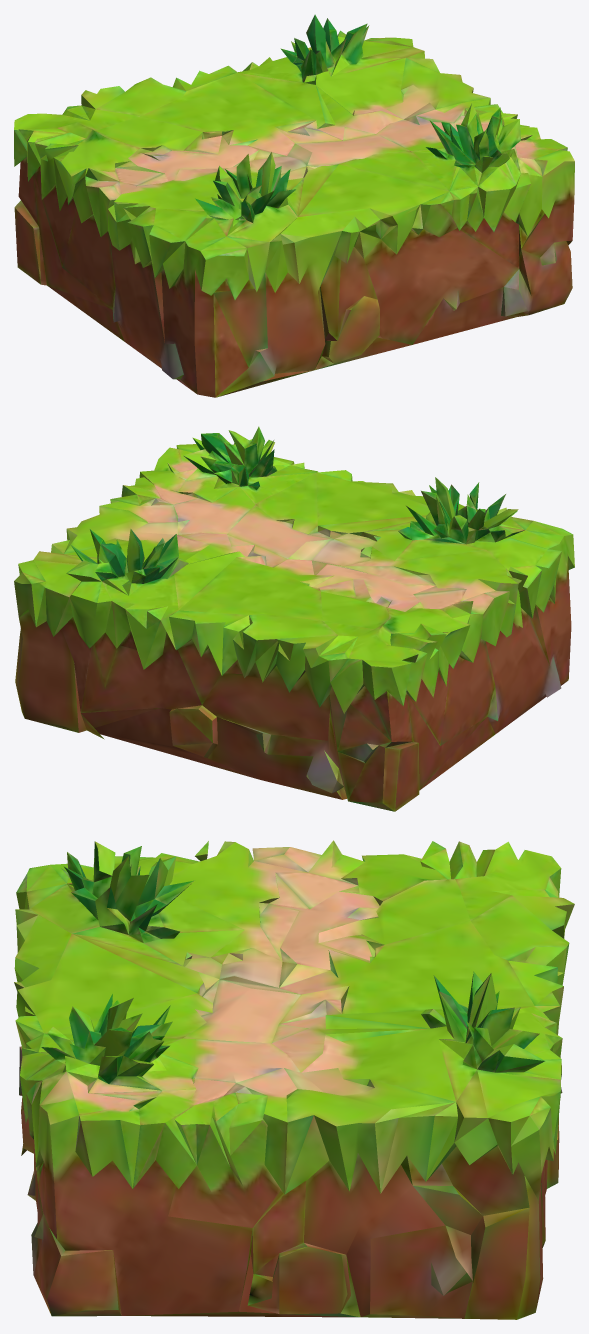
The model's file is dirt-transition.glb.
3 views of the same model, one above another, from view 1: azimuth 30°, elevation 25°; view 2: azimuth 150°, elevation 25°; view 3: azimuth 270°, elevation 25° (orthographic). The views are drawn at different scales.
Visible parts, largest first — view 1: output_unwrapped; view 2: output_unwrapped; view 3: output_unwrapped.
Part boxes in pixels (<box>): output_unwrapped: <box>14,14,574,397</box>; output_unwrapped: <box>14,426,574,811</box>; output_unwrapped: <box>14,840,574,1319</box>.
Size of the model in its own units: 1.9 by 0.9026 by 1.64.
1 material, 1 textured.
